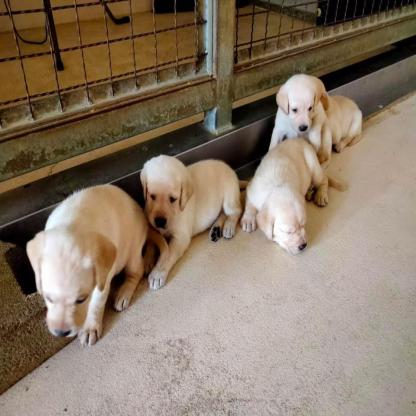dog: (26, 183, 148, 347), (138, 155, 242, 288), (243, 135, 345, 254), (269, 73, 362, 151)
